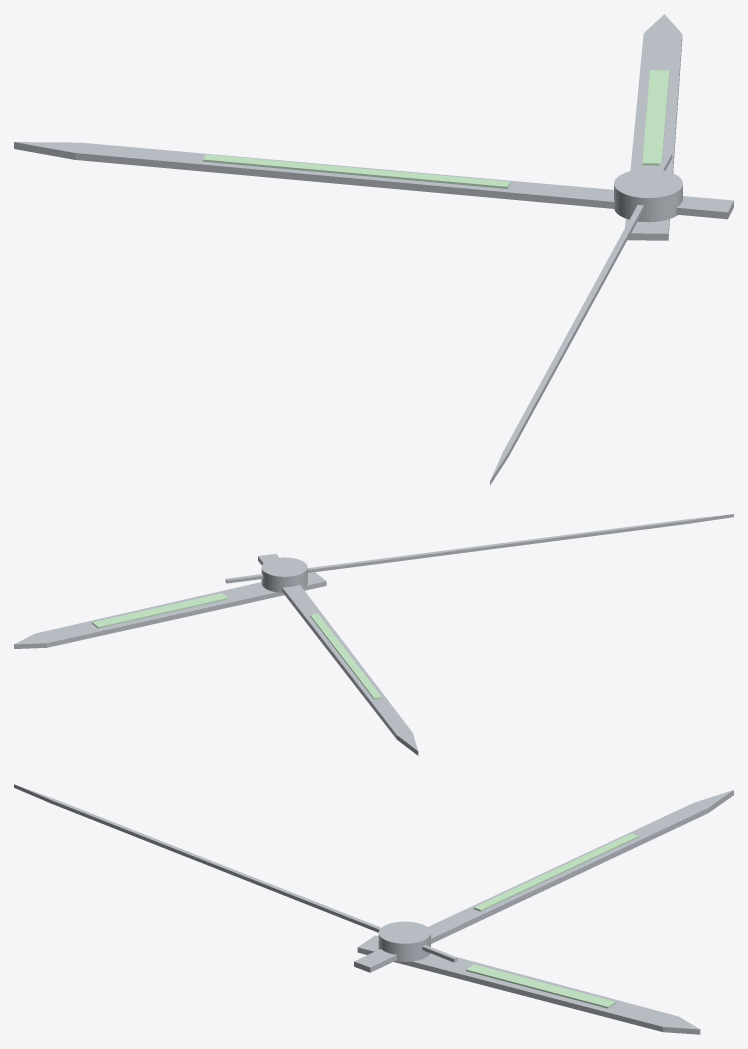
The model's file is hands-pencil-42.glb.
The picture shows the model from 3 angles, top to bottom: view 1: azimuth 30°, elevation 25°; view 2: azimuth 150°, elevation 25°; view 3: azimuth 270°, elevation 25°; orthographic projection. The views are drawn at different scales.
Visible parts, largest first — view 1: DD_HAND_MINUTE, DD_HAND_HOUR, DD_HAND_HUB, DD_HAND_SECONDS, DD_HAND_MINUTE_LUME, DD_HAND_HOUR_LUME; view 2: DD_HAND_HOUR, DD_HAND_MINUTE, DD_HAND_SECONDS, DD_HAND_HUB, DD_HAND_HOUR_LUME, DD_HAND_MINUTE_LUME; view 3: DD_HAND_MINUTE, DD_HAND_HOUR, DD_HAND_SECONDS, DD_HAND_HUB, DD_HAND_HOUR_LUME, DD_HAND_MINUTE_LUME.
Part boxes in pixels (x1,y1,x2,y2): DD_HAND_MINUTE: (14, 142, 733, 219); DD_HAND_HOUR: (625, 14, 682, 240); DD_HAND_HUB: (614, 169, 682, 222); DD_HAND_SECONDS: (490, 153, 672, 485); DD_HAND_MINUTE_LUME: (203, 154, 510, 188); DD_HAND_HOUR_LUME: (642, 70, 669, 165); DD_HAND_HOUR: (14, 572, 326, 648); DD_HAND_MINUTE: (258, 553, 418, 755); DD_HAND_SECONDS: (225, 514, 733, 583); DD_HAND_HUB: (261, 557, 307, 592); DD_HAND_HOUR_LUME: (92, 593, 227, 628); DD_HAND_MINUTE_LUME: (310, 613, 381, 699); DD_HAND_MINUTE: (354, 790, 733, 972); DD_HAND_HOUR: (357, 935, 700, 1034); DD_HAND_SECONDS: (14, 784, 457, 962); DD_HAND_HUB: (378, 921, 430, 961); DD_HAND_HOUR_LUME: (466, 964, 615, 1008); DD_HAND_MINUTE_LUME: (473, 833, 638, 911).
Bounding box in the file's own units: 14.21 × 0.685 × 18.59.
